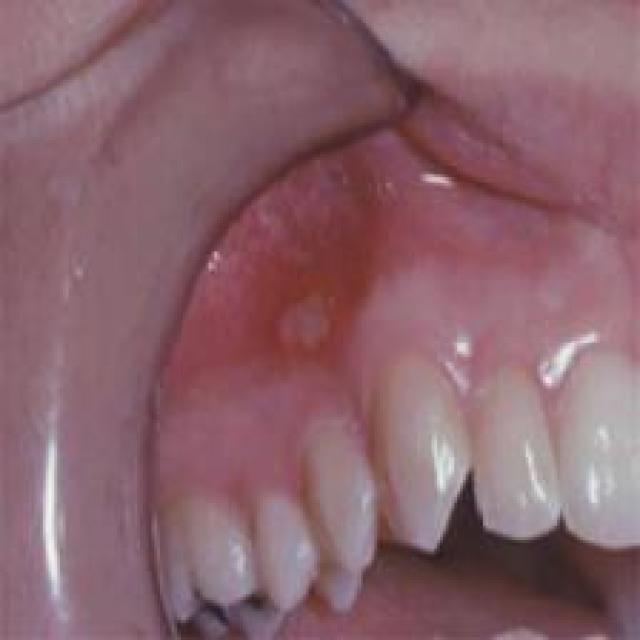processing_area: (137, 0, 637, 519)
ulcer-detection: (234, 245, 366, 378)
